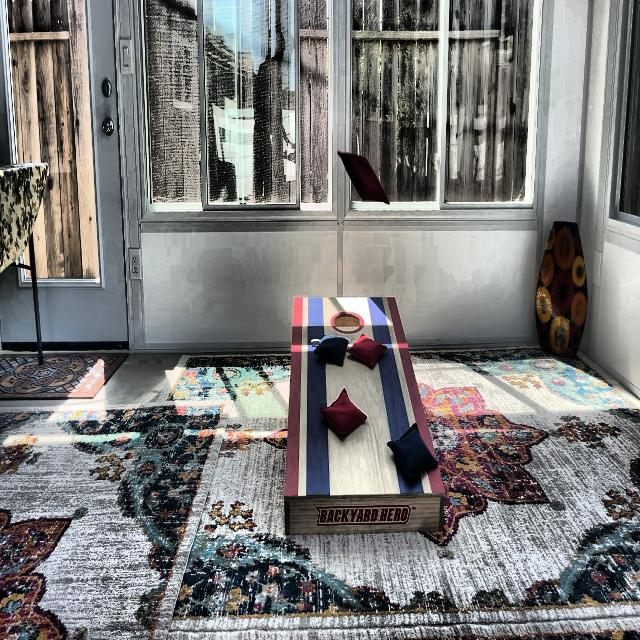blue-bean-bag: (388, 422, 438, 481), (314, 334, 348, 366)
board: (290, 297, 411, 494)
hole: (330, 311, 364, 333)
red-bean-bag: (335, 150, 388, 202), (320, 388, 368, 436), (347, 334, 388, 368)
